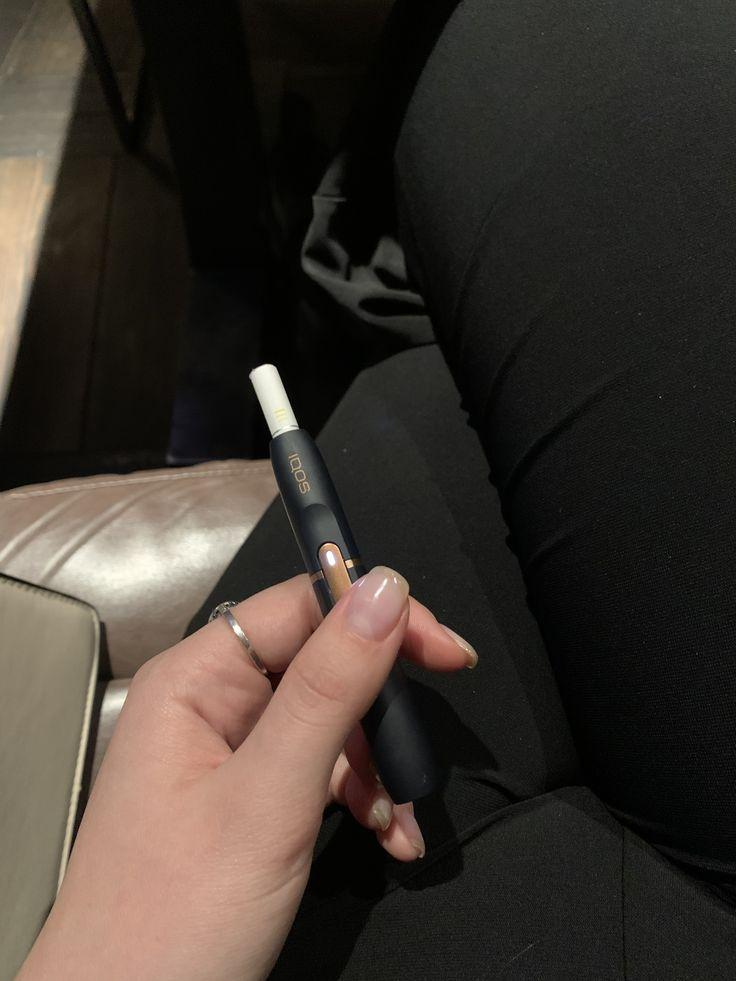iqos: (248, 363, 445, 807)
